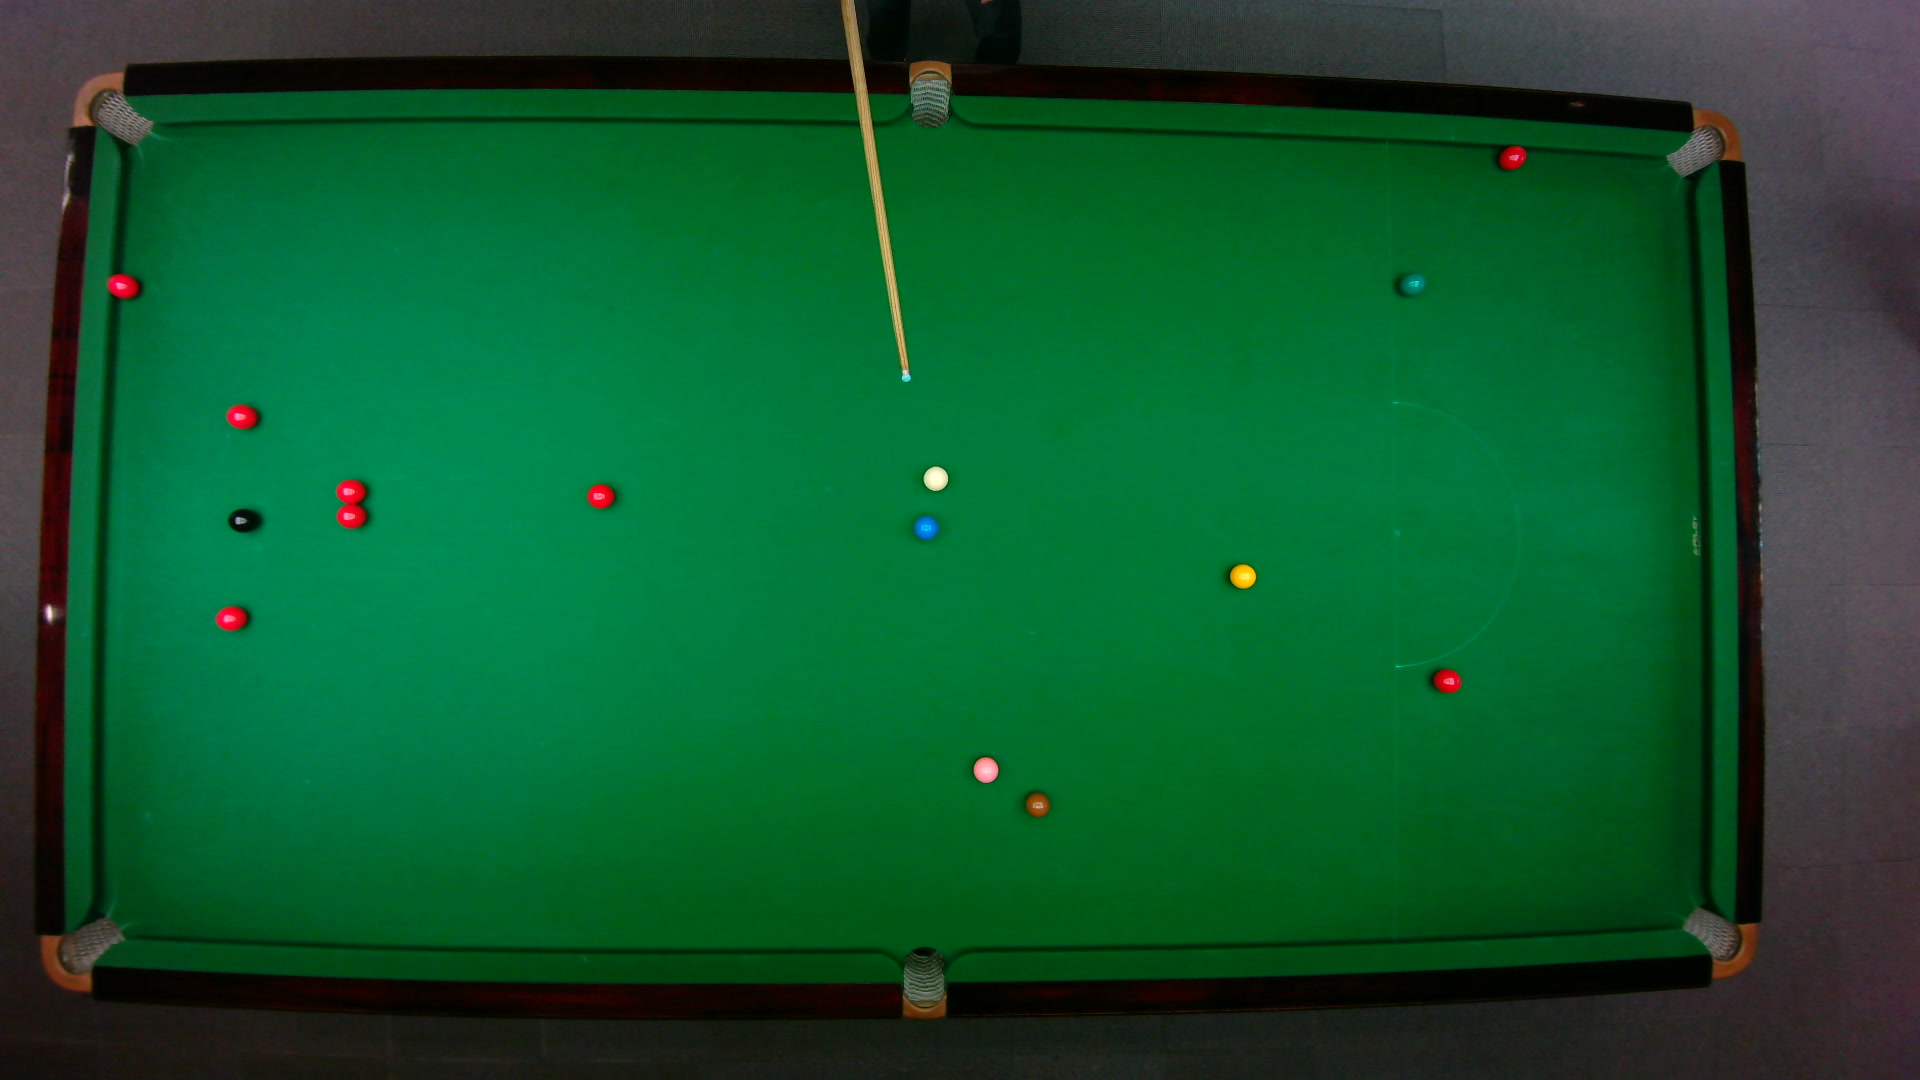bag: (38, 914, 127, 993), (69, 71, 156, 146), (1680, 905, 1759, 978), (1664, 107, 1742, 179), (901, 945, 945, 1021), (909, 59, 952, 129)
black: (225, 506, 258, 534)
blue: (913, 516, 940, 541)
brown: (1023, 791, 1051, 819)
cue: (843, 0, 911, 382)
green: (1396, 272, 1427, 297)
pink: (971, 756, 1001, 785)
red: (105, 272, 141, 301), (214, 605, 249, 632), (225, 404, 258, 431), (334, 504, 368, 530), (334, 477, 368, 504), (585, 483, 616, 510), (1498, 144, 1528, 171), (1431, 669, 1462, 695)
white: (920, 464, 949, 493)
yellow: (1228, 562, 1258, 589)
zone: (1390, 400, 1520, 669)
